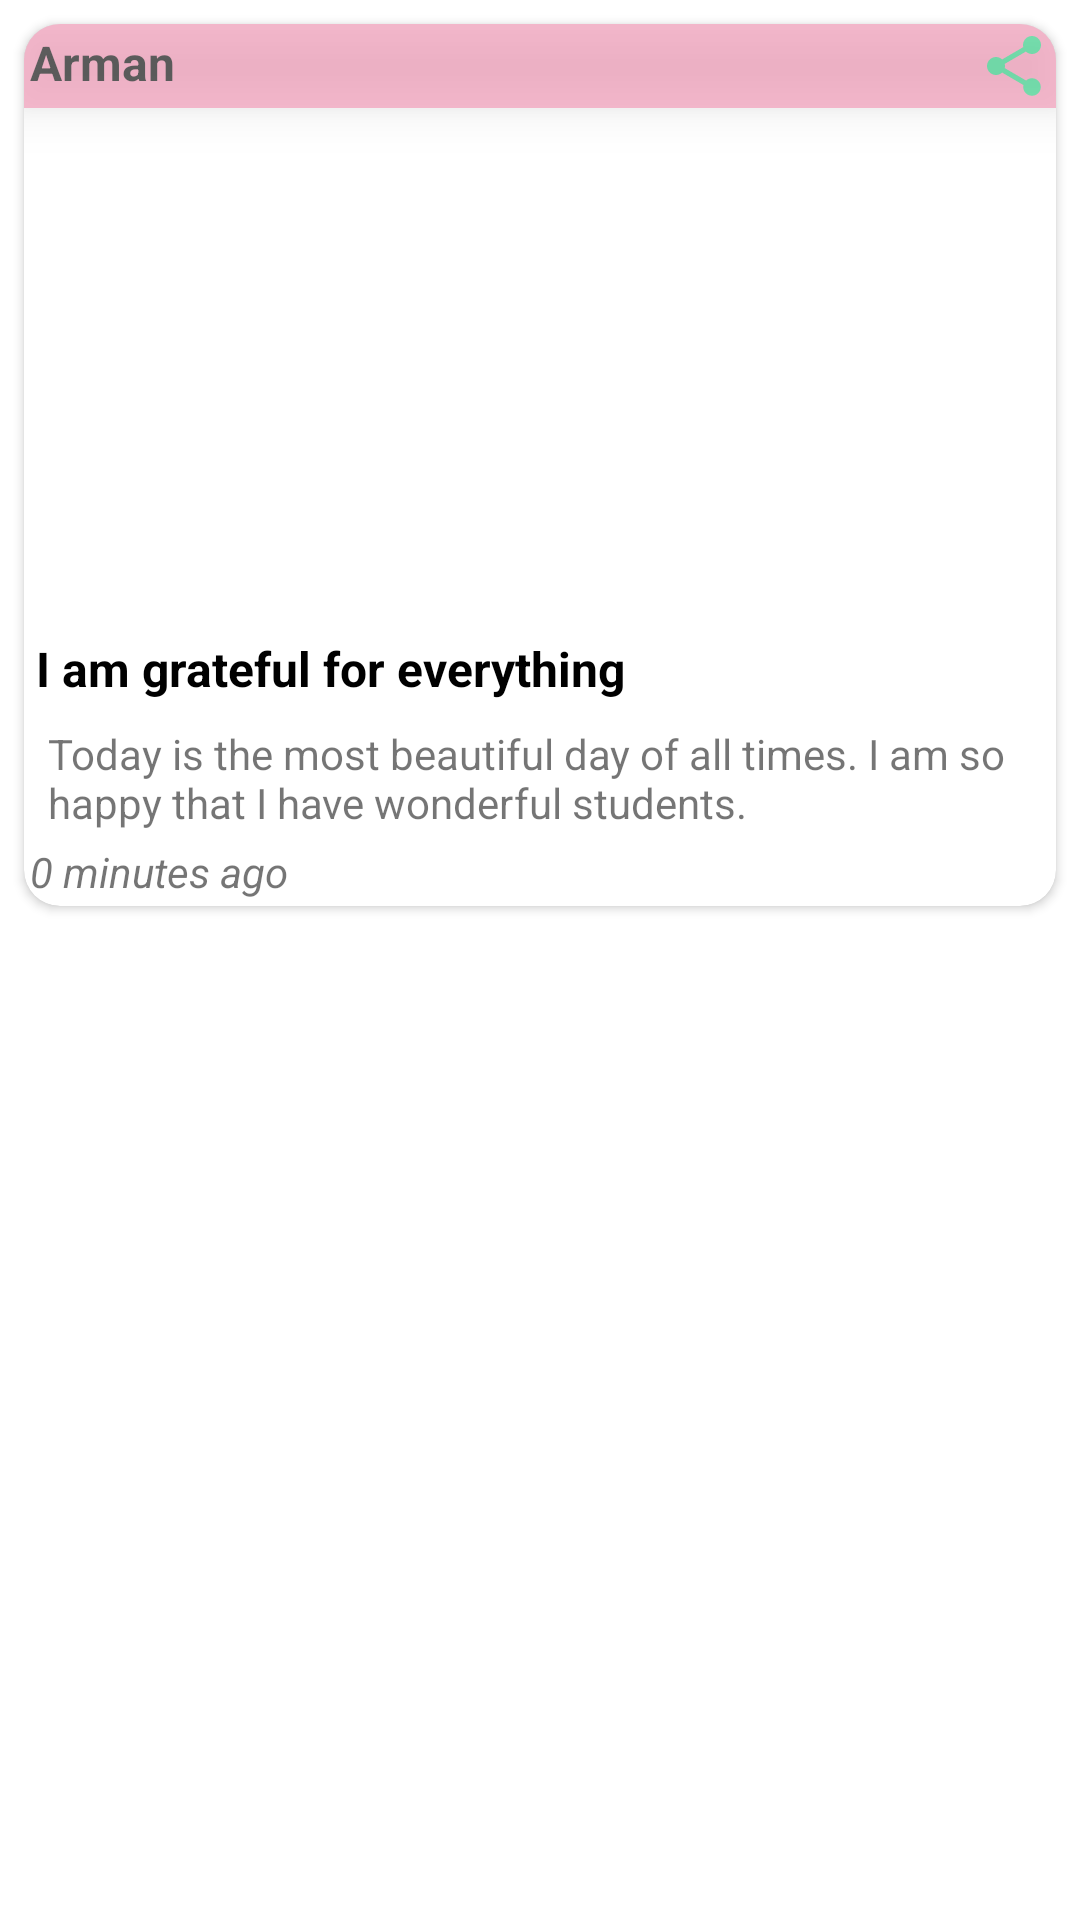

Icon bounding boxes for this 1080px x 1920px phone screenshot, format (x1, y1, x2, y2):
share: (972, 24, 1056, 108)
